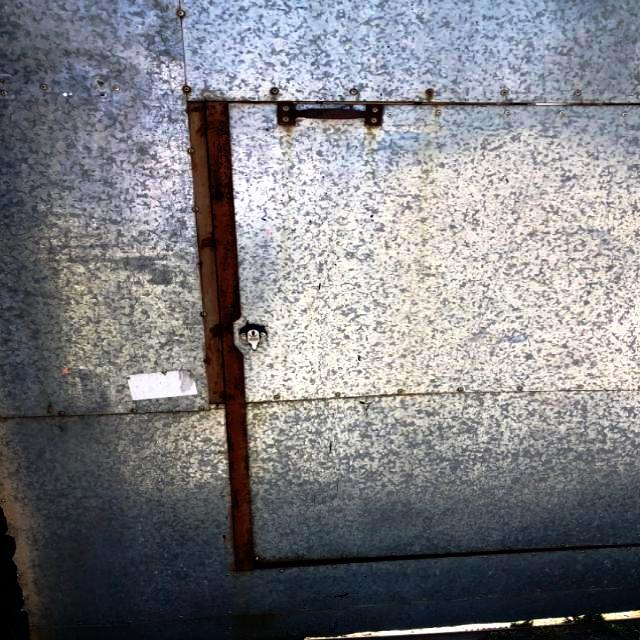Corrosion: (188, 101, 255, 571), (276, 102, 383, 126)
